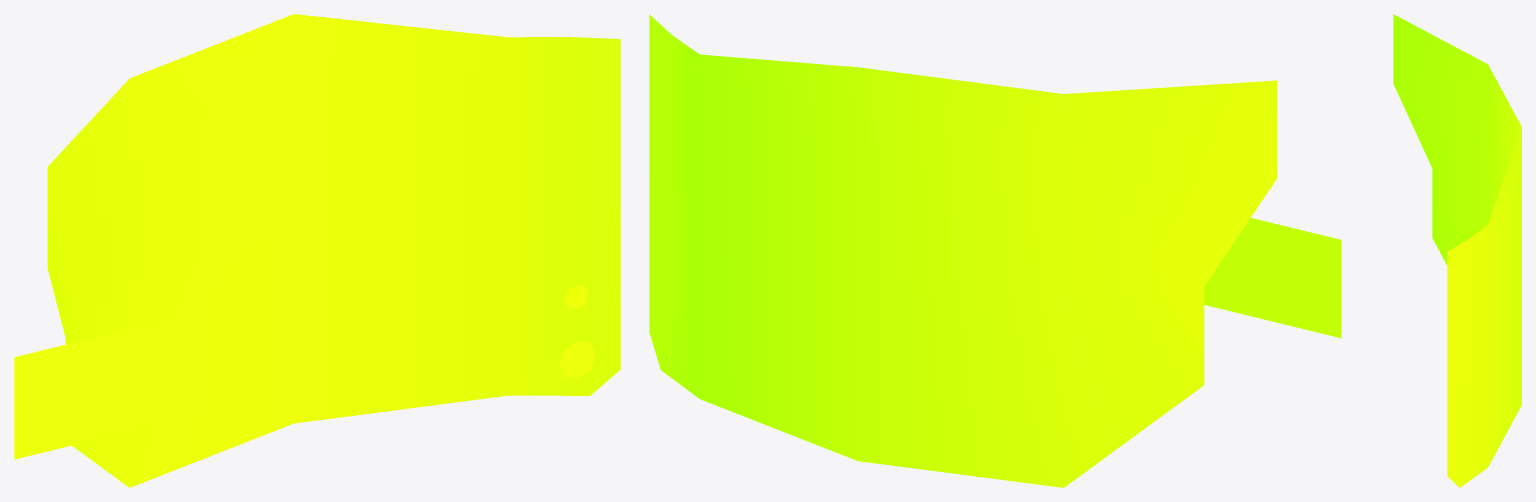
Rendered from mod_hologram_machine.fbx.
3 renders of one model, left to right at view 1: azimuth 30°, elevation 25°; view 2: azimuth 150°, elevation 25°; view 3: azimuth 270°, elevation 25°, orthographic. The views are drawn at different scales.
Parts seen in each view (by area): view 1: Plane, Plane.001, Cube; view 2: Plane, Plane.001; view 3: Plane.
Part boxes in pixels (x1,y1,x2,y2): Plane: [47, 14, 620, 487]; Plane.001: [14, 309, 209, 459]; Cube: [559, 340, 595, 378]; Plane: [649, 14, 1276, 487]; Plane.001: [1204, 218, 1341, 338]; Plane: [1393, 14, 1521, 487].
Size of the model in its own units: 339 by 200 by 98.91.
